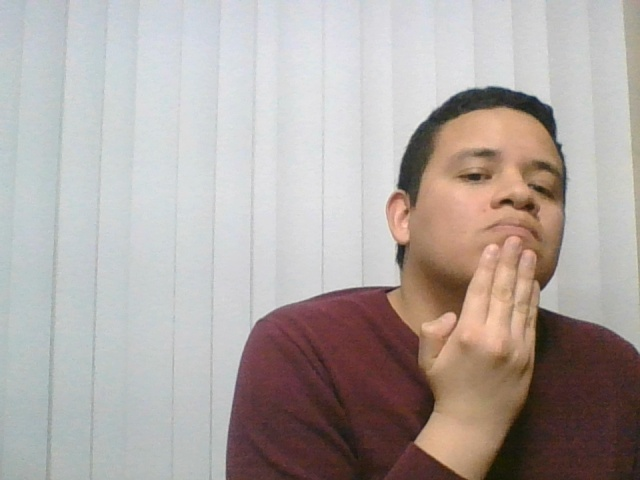Thank you: (367, 226, 593, 465)
